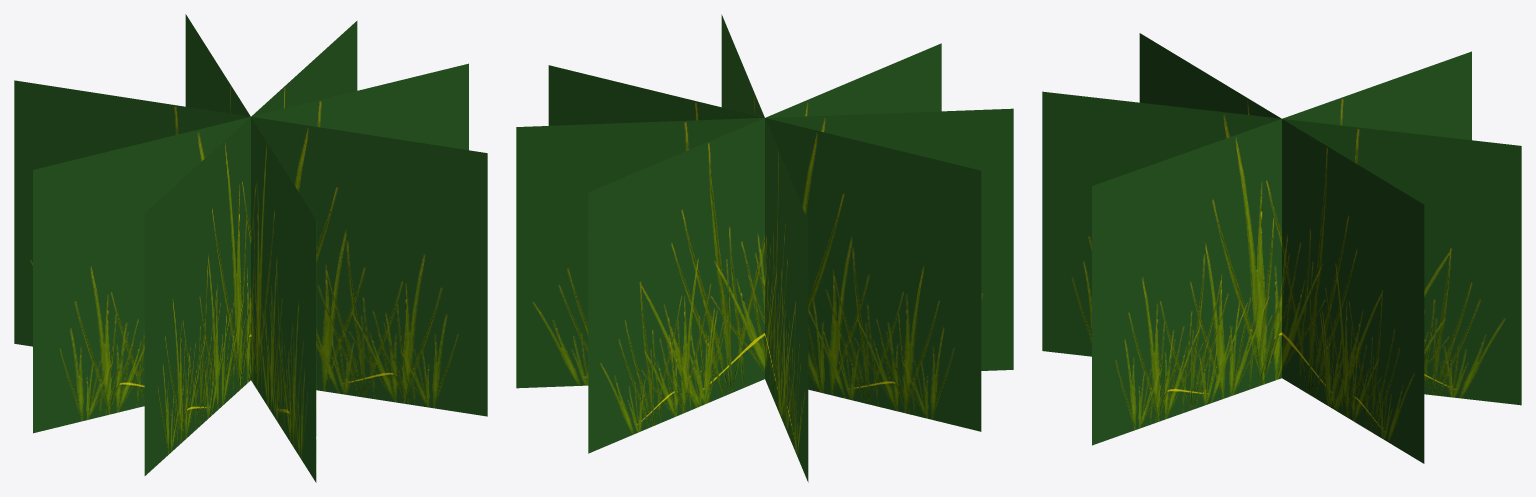
Rendered from grass3.FBX.
The picture shows the model from 3 angles, left to right: view 1: azimuth 30°, elevation 25°; view 2: azimuth 150°, elevation 25°; view 3: azimuth 270°, elevation 25°; orthographic projection.
Visible parts, largest first — view 1: grass3; view 2: grass3; view 3: grass3.
Part boxes in pixels (<box>): grass3: <box>14,14,487,482</box>; grass3: <box>516,14,1013,482</box>; grass3: <box>1042,33,1521,463</box>.
Bounding box in the file's own units: 1.73 × 1 × 1.67.
